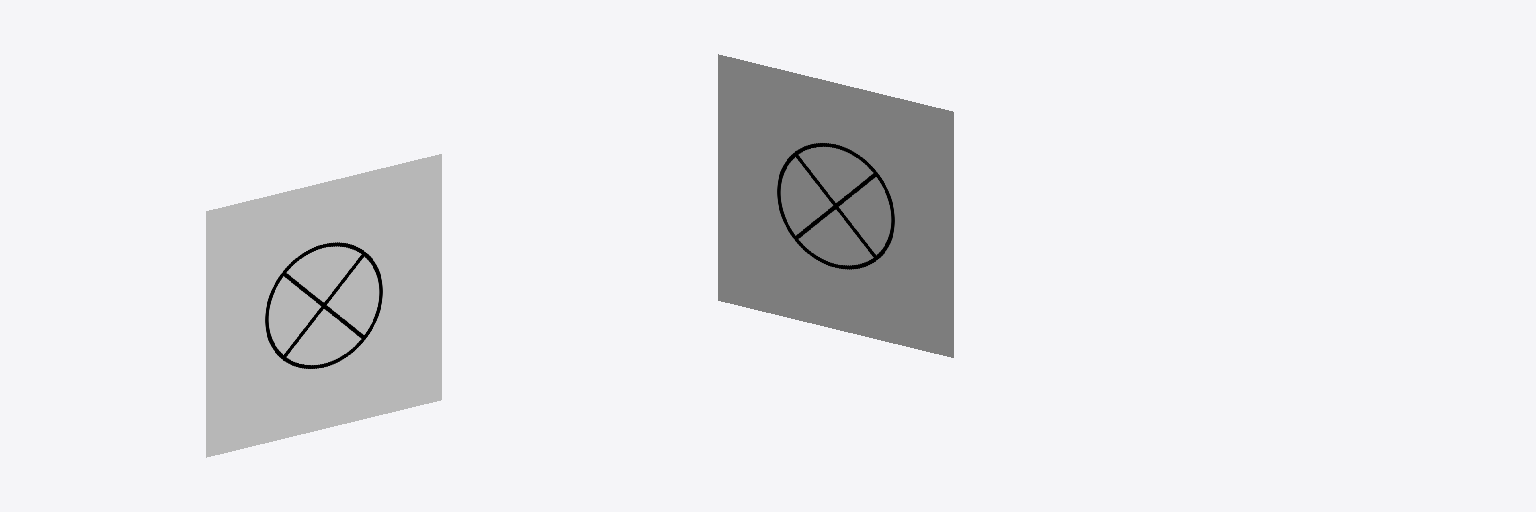
3 renders of one model, left to right at view 1: azimuth 30°, elevation 25°; view 2: azimuth 150°, elevation 25°; view 3: azimuth 270°, elevation 25°, orthographic.
Visible parts, largest first — view 1: Mesh; view 2: Mesh; view 3: none.
Boxes of the visible parts, box(x1,y1,x2,y2) form: Mesh: box(206, 154, 441, 457); Mesh: box(718, 54, 953, 357).
Bounding box in the file's own units: 50 × 50 × 50.
2 materials, 2 textured.